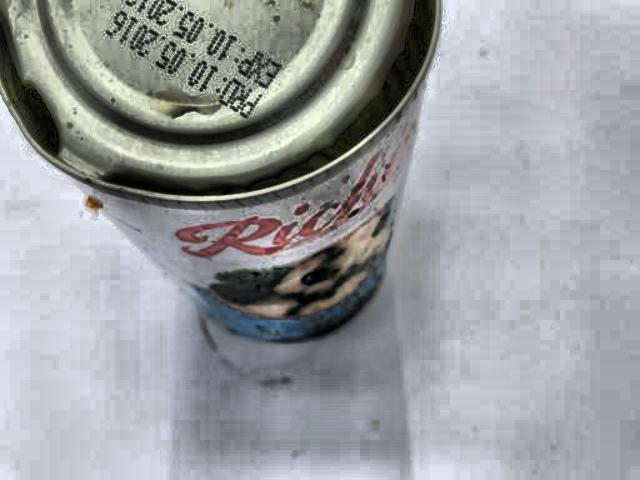Almennt: (0, 0, 444, 389)
